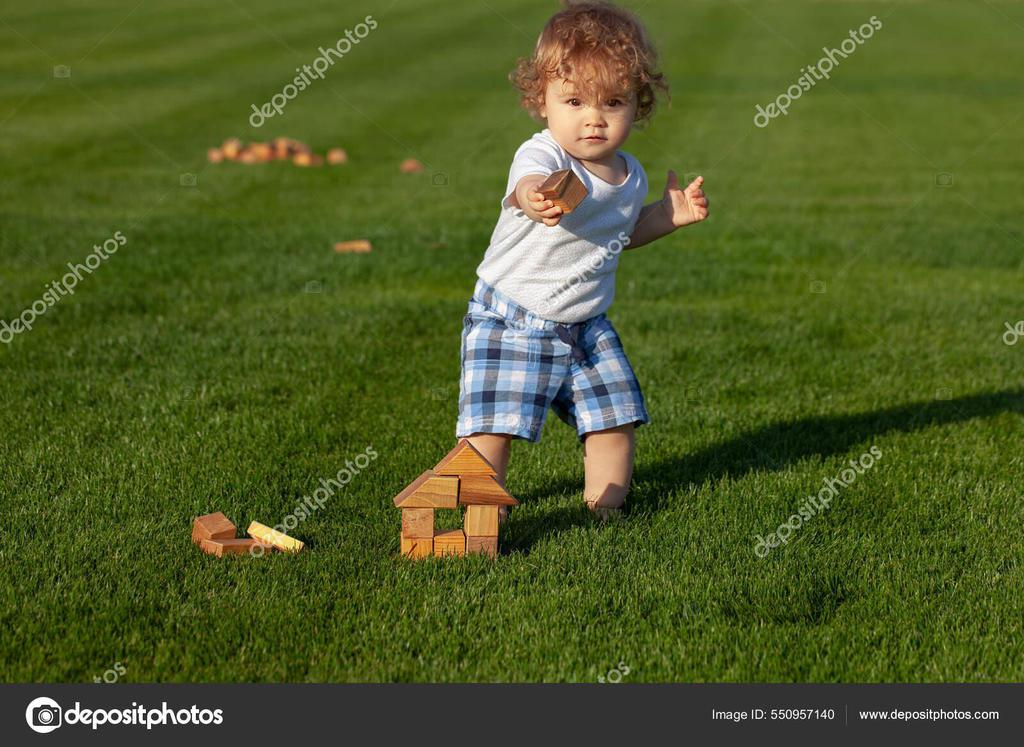child: (419, 2, 721, 528)
